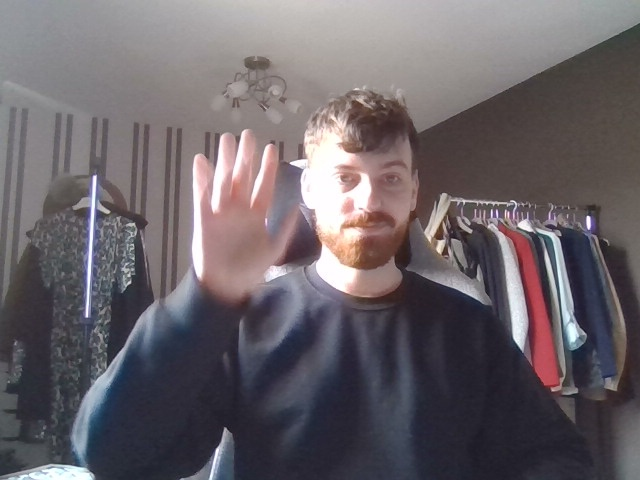Hello: (181, 117, 310, 313)
